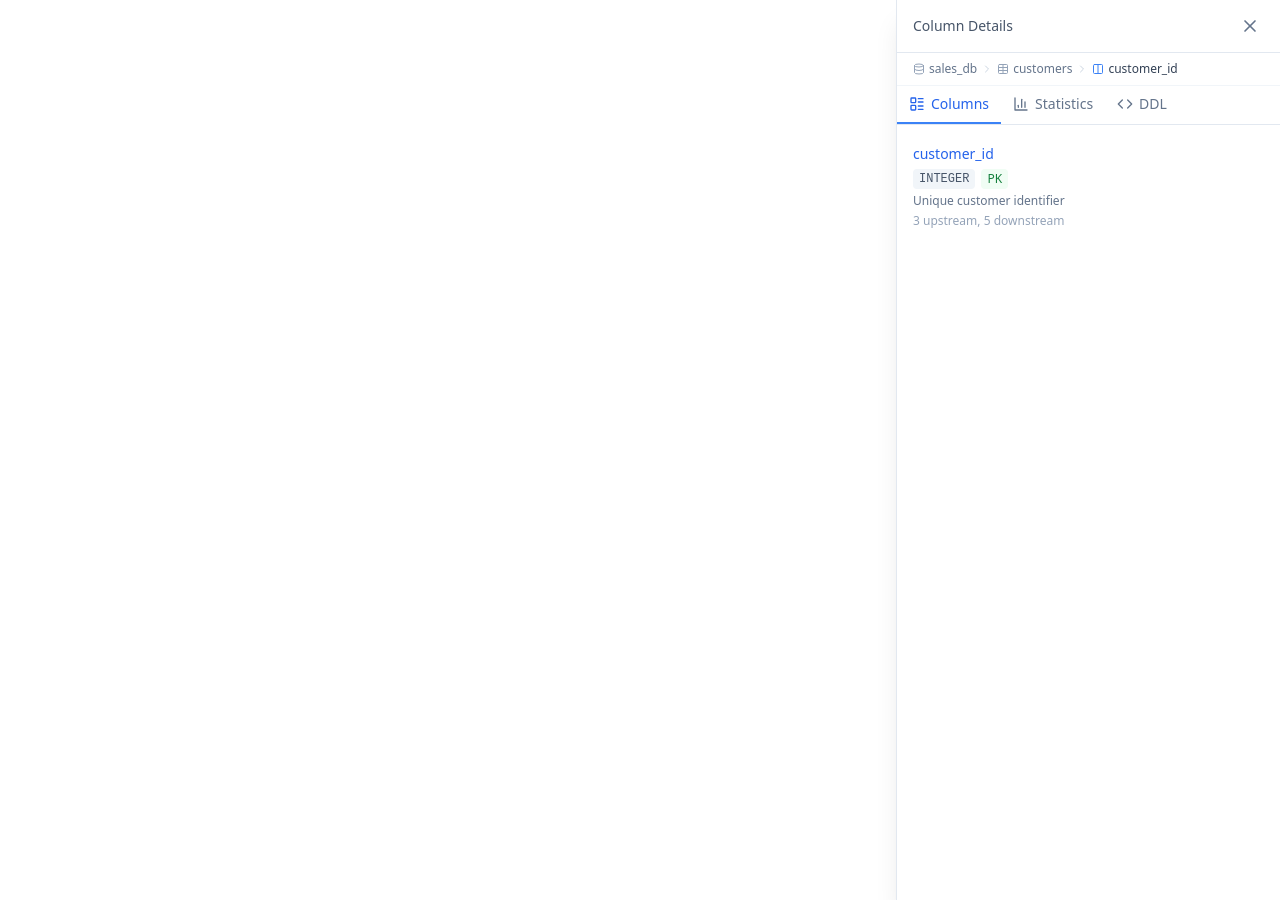
DetailPanel › TC-PANEL-01: Tab switching › shows Statistics tab content when clicked
The width and height of the screenshot is (1280, 900).
Click the tab "Statistics".
click(1053, 105)  # box [1001,86,1105,124]
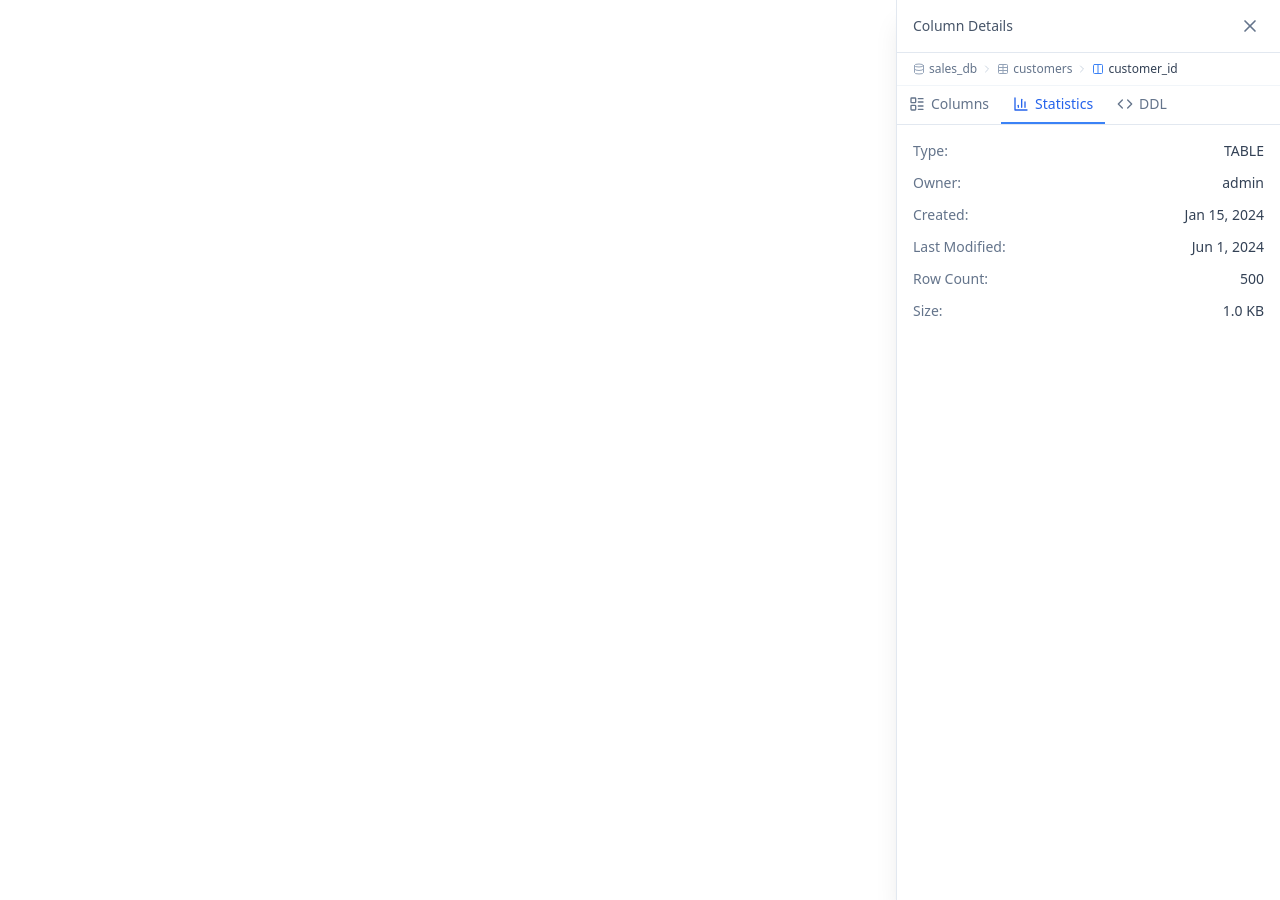
Check: the text "TABLE" is shown, box [1224,141,1264,161]
